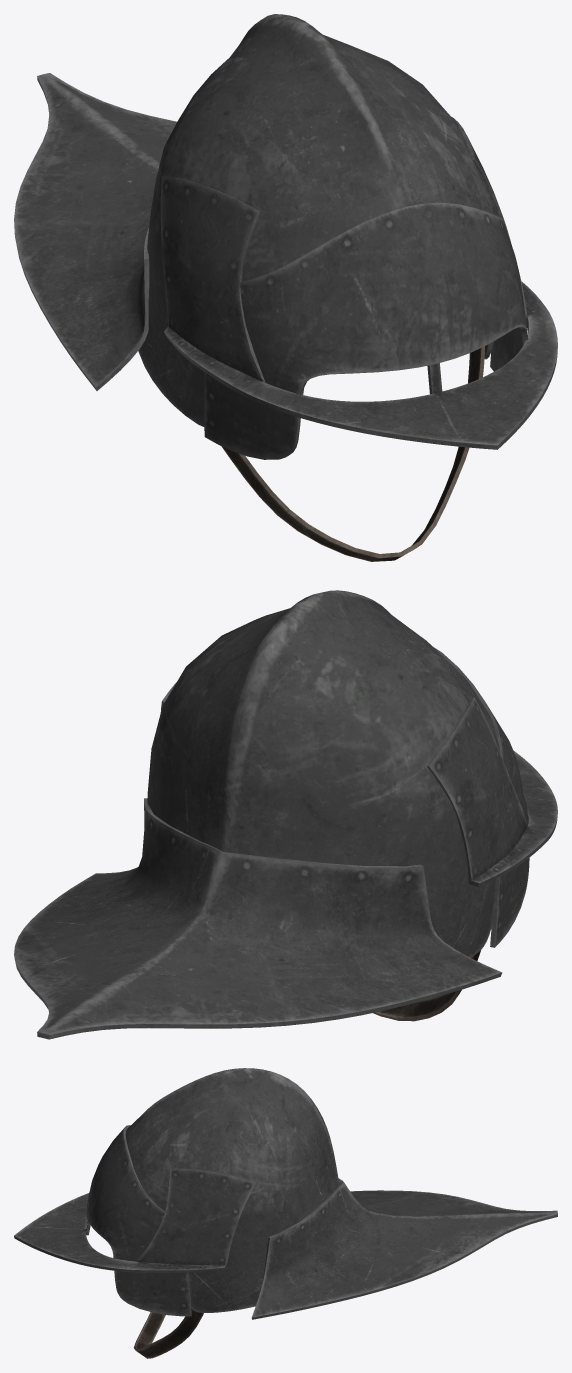
File: sk_uruk_hai_helmet_sapper_a4.fbx
3 views of the same model, one above another, from view 1: azimuth 30°, elevation 25°; view 2: azimuth 150°, elevation 25°; view 3: azimuth 270°, elevation 25° (orthographic). The views are drawn at different scales.
Visible parts, largest first — view 1: sk_uruk_hai_helmet_sapper_a4.1, sk_uruk_hai_helmet_sapper_a4.0; view 2: sk_uruk_hai_helmet_sapper_a4.1, sk_uruk_hai_helmet_sapper_a4.0; view 3: sk_uruk_hai_helmet_sapper_a4.1, sk_uruk_hai_helmet_sapper_a4.0.
Part boxes in pixels (left/top/right/bottom): sk_uruk_hai_helmet_sapper_a4.1: left=14, top=14, right=557, bottom=459; sk_uruk_hai_helmet_sapper_a4.0: left=221, top=346, right=484, bottom=561; sk_uruk_hai_helmet_sapper_a4.1: left=14, top=590, right=557, bottom=1039; sk_uruk_hai_helmet_sapper_a4.0: left=373, top=950, right=480, bottom=1021; sk_uruk_hai_helmet_sapper_a4.1: left=14, top=1068, right=557, bottom=1319; sk_uruk_hai_helmet_sapper_a4.0: left=133, top=1309, right=203, bottom=1358.
Size of the model in its own units: 0.2811 by 0.5446 by 0.3151.
Materials: 2 (2 with a texture image).
